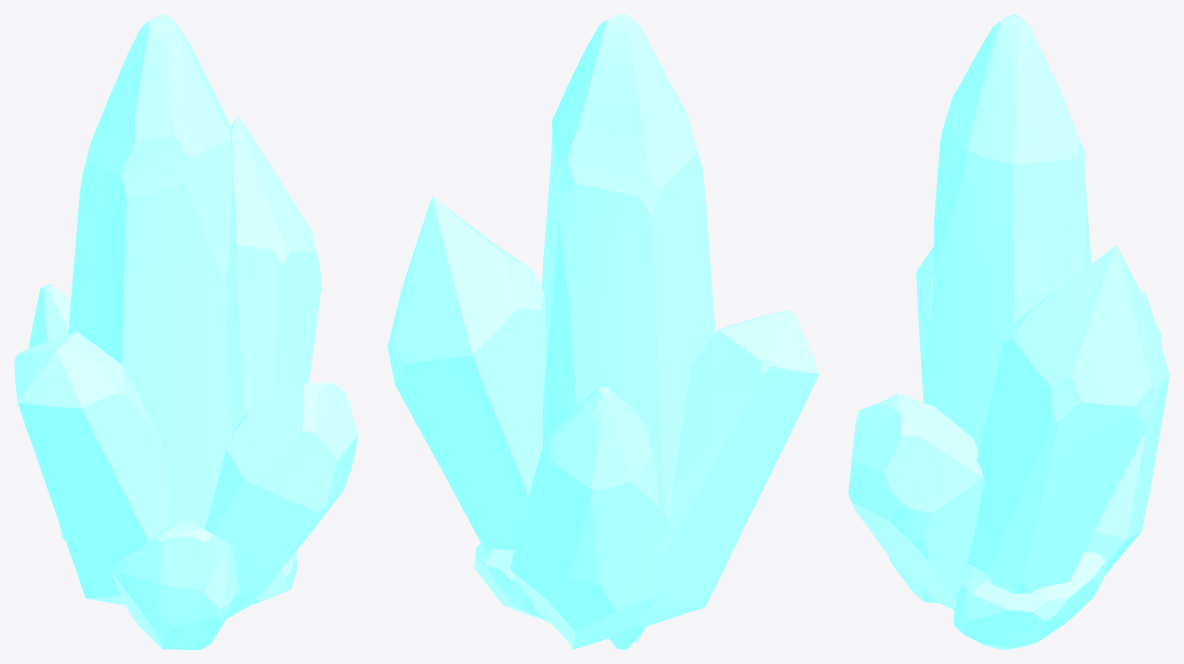
Rendered from Crystal6.FBX.
3 renders of one model, left to right at view 1: azimuth 30°, elevation 25°; view 2: azimuth 150°, elevation 25°; view 3: azimuth 270°, elevation 25°, orthographic. The views are drawn at different scales.
Visible parts, largest first — view 1: Cristalli_6; view 2: Cristalli_6; view 3: Cristalli_6.
Boxes of the visible parts, box(x1,y1,x2,y2) form: Cristalli_6: box(14, 14, 358, 649); Cristalli_6: box(387, 14, 819, 649); Cristalli_6: box(848, 14, 1169, 649).
Bounding box in the file's own units: 11.08 × 18.63 × 8.95.
Materials: 1 (1 with a texture image).
